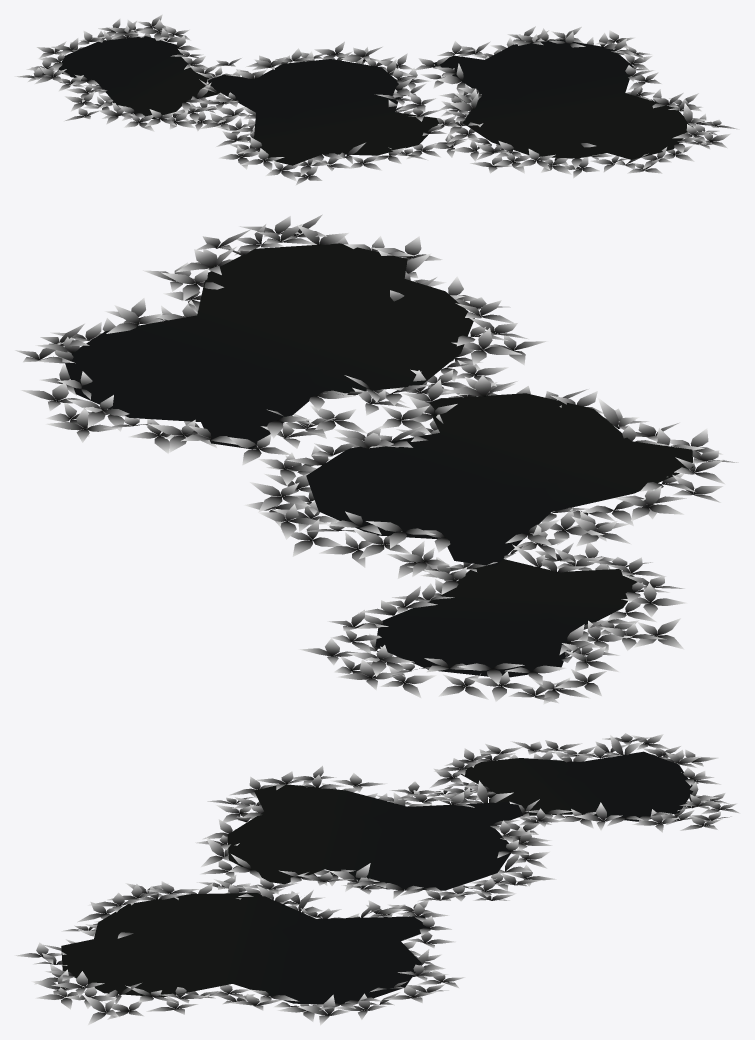
Rendered from SM_ENV_KNFRST_LeafShadow_GroupB.FBX.
The picture shows the model from 3 angles, top to bottom: view 1: azimuth 30°, elevation 25°; view 2: azimuth 150°, elevation 25°; view 3: azimuth 270°, elevation 25°; orthographic projection. The views are drawn at different scales.
Parts seen in each view (by area): view 1: SM_ENV_KNFRST_LeafShadow_GroupB; view 2: SM_ENV_KNFRST_LeafShadow_GroupB; view 3: SM_ENV_KNFRST_LeafShadow_GroupB.
Boxes of the visible parts, <box> form: SM_ENV_KNFRST_LeafShadow_GroupB: <box>14,14,739,185</box>; SM_ENV_KNFRST_LeafShadow_GroupB: <box>15,214,738,704</box>; SM_ENV_KNFRST_LeafShadow_GroupB: <box>14,733,740,1025</box>.
Size of the model in its own units: 1421 by 71.03 by 1466.
